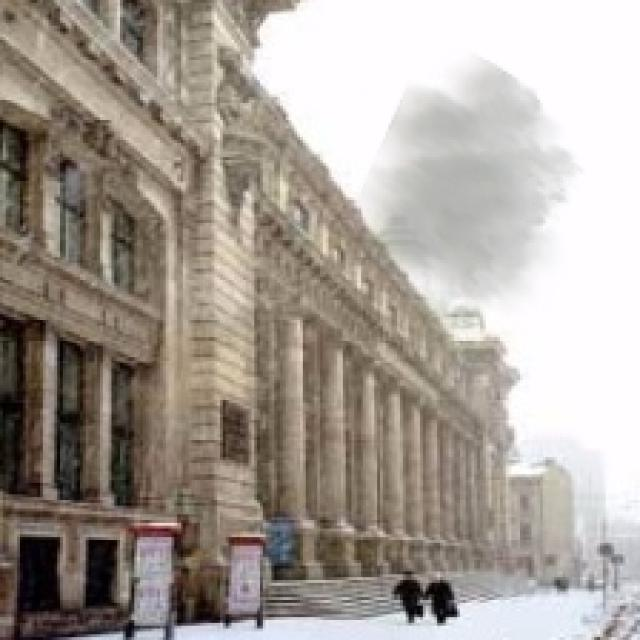smoke: (343, 49, 586, 317)
